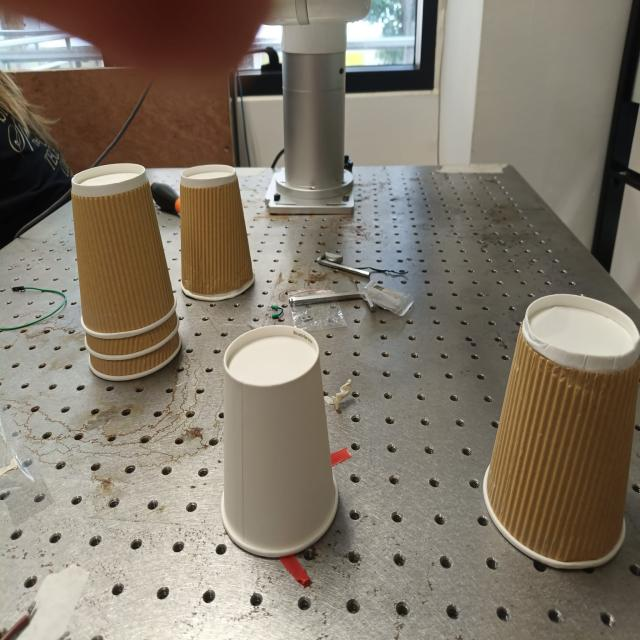Browncup: (483, 294, 640, 568), (72, 163, 181, 379), (180, 164, 254, 300), (89, 327, 181, 380), (86, 311, 178, 355)
Whitecup: (221, 325, 338, 558)
